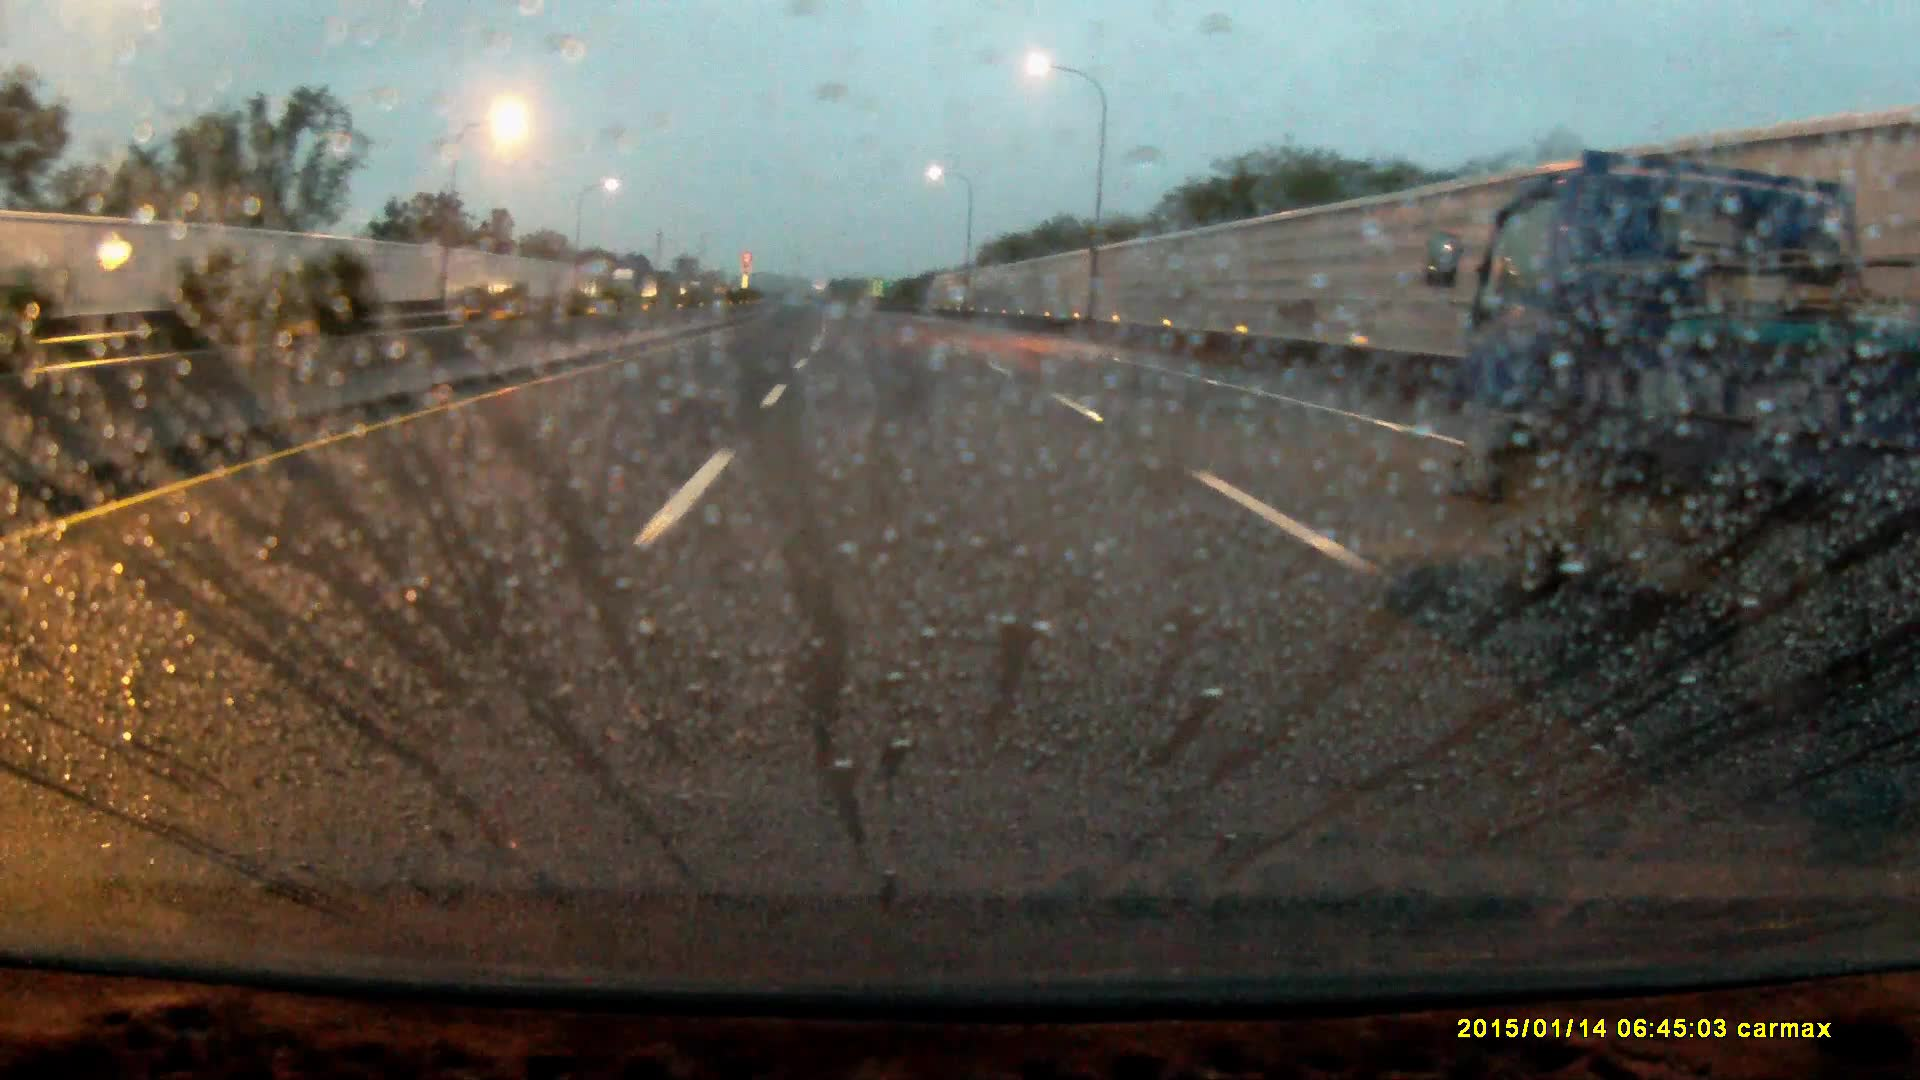vehicle: (1462, 158, 1920, 611), (611, 268, 646, 305)
